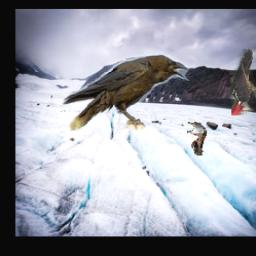Crow: (61, 51, 189, 132)
Cuckoo: (187, 122, 208, 156)
Woodpecker: (230, 50, 256, 116)
